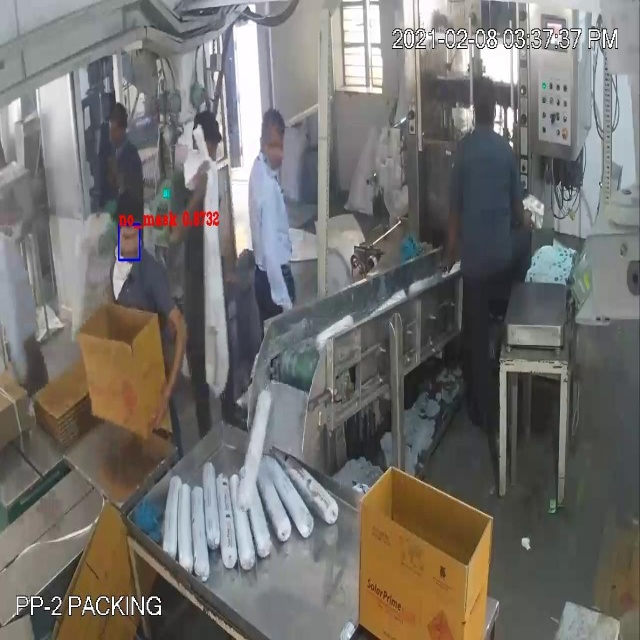Sin_guantes: (147, 293, 195, 426)
